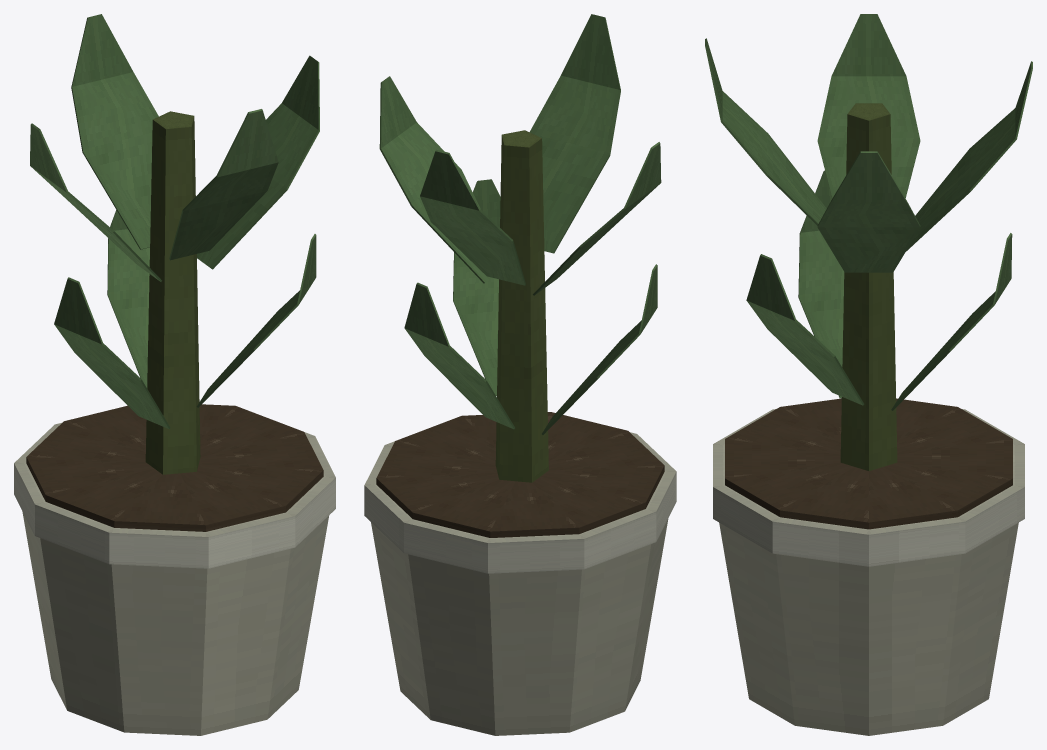
File: plant_table.glb
The picture shows the model from 3 angles, left to right: view 1: azimuth 30°, elevation 25°; view 2: azimuth 150°, elevation 25°; view 3: azimuth 270°, elevation 25°; orthographic projection. The views are drawn at different scales.
Parts seen in each view (by area): view 1: home_plant_table; view 2: home_plant_table; view 3: home_plant_table.
Boxes of the visible parts, x1,y1,x2,y2 form: home_plant_table: (14, 14, 335, 735); home_plant_table: (364, 14, 676, 735); home_plant_table: (705, 14, 1032, 735).
Bounding box in the file's own units: 0.13 × 0.2805 × 0.13.
1 material, 1 textured.
